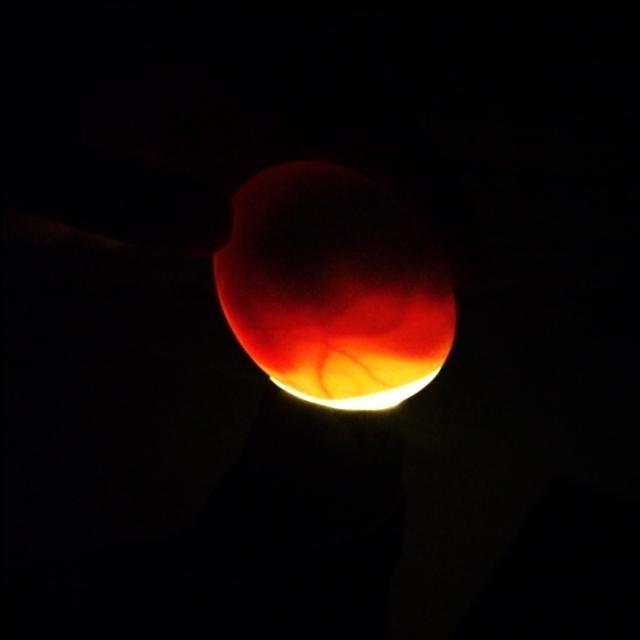Embriao: (224, 163, 452, 306)
